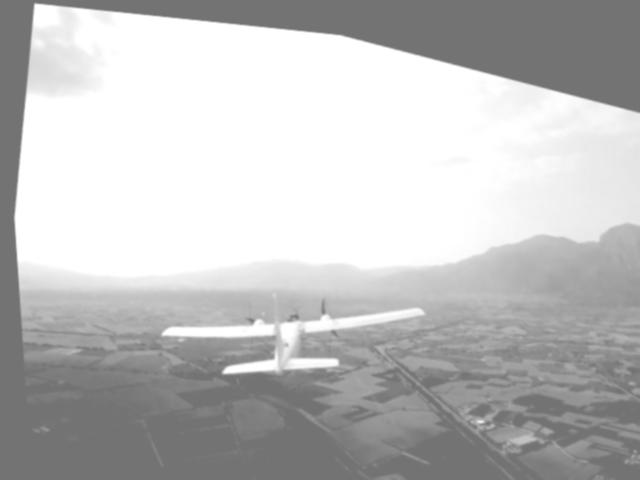hedef: (139, 224, 433, 439)
